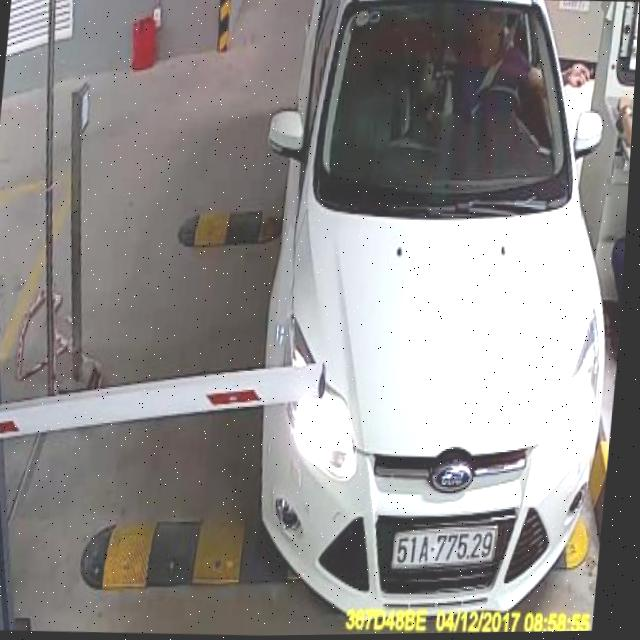car: (219, 0, 640, 614)
plate: (383, 519, 505, 578)
